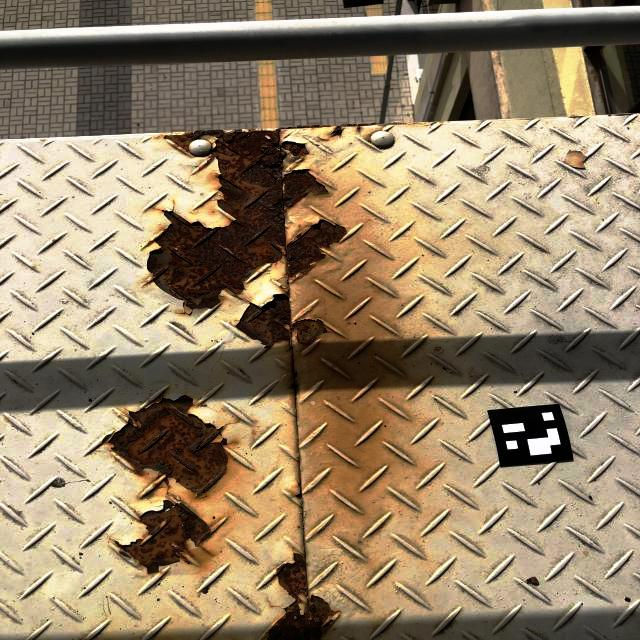Corrosion: (144, 130, 347, 309), (108, 395, 228, 574), (263, 554, 342, 640), (237, 295, 327, 348), (332, 123, 383, 136), (276, 125, 333, 132), (293, 482, 303, 500), (386, 122, 407, 125)
